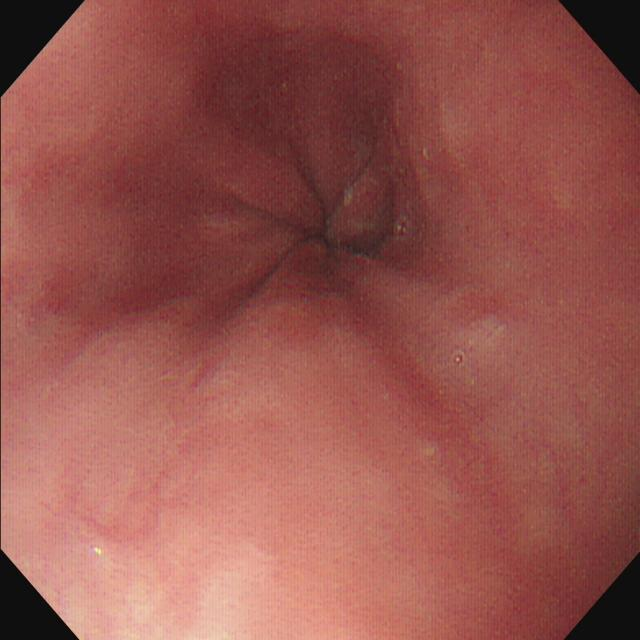I: (223, 99, 414, 314)
